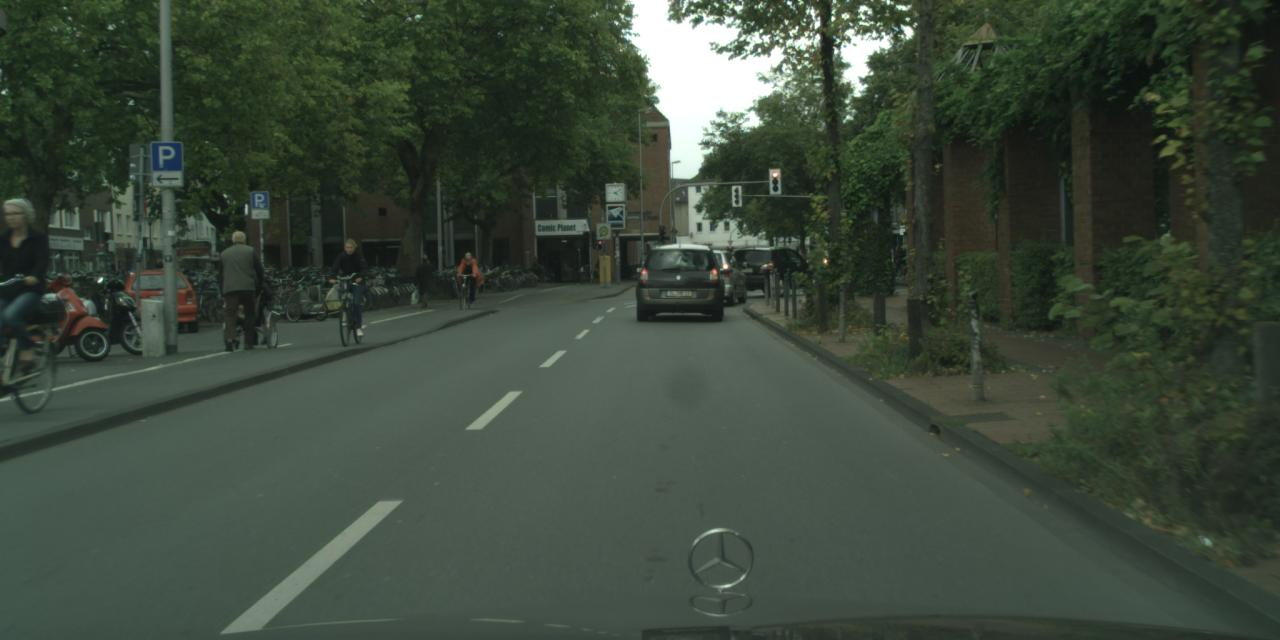ped: (0, 197, 48, 377), (215, 231, 262, 348), (332, 238, 369, 331), (412, 254, 434, 308), (457, 252, 477, 300), (797, 250, 807, 276)
